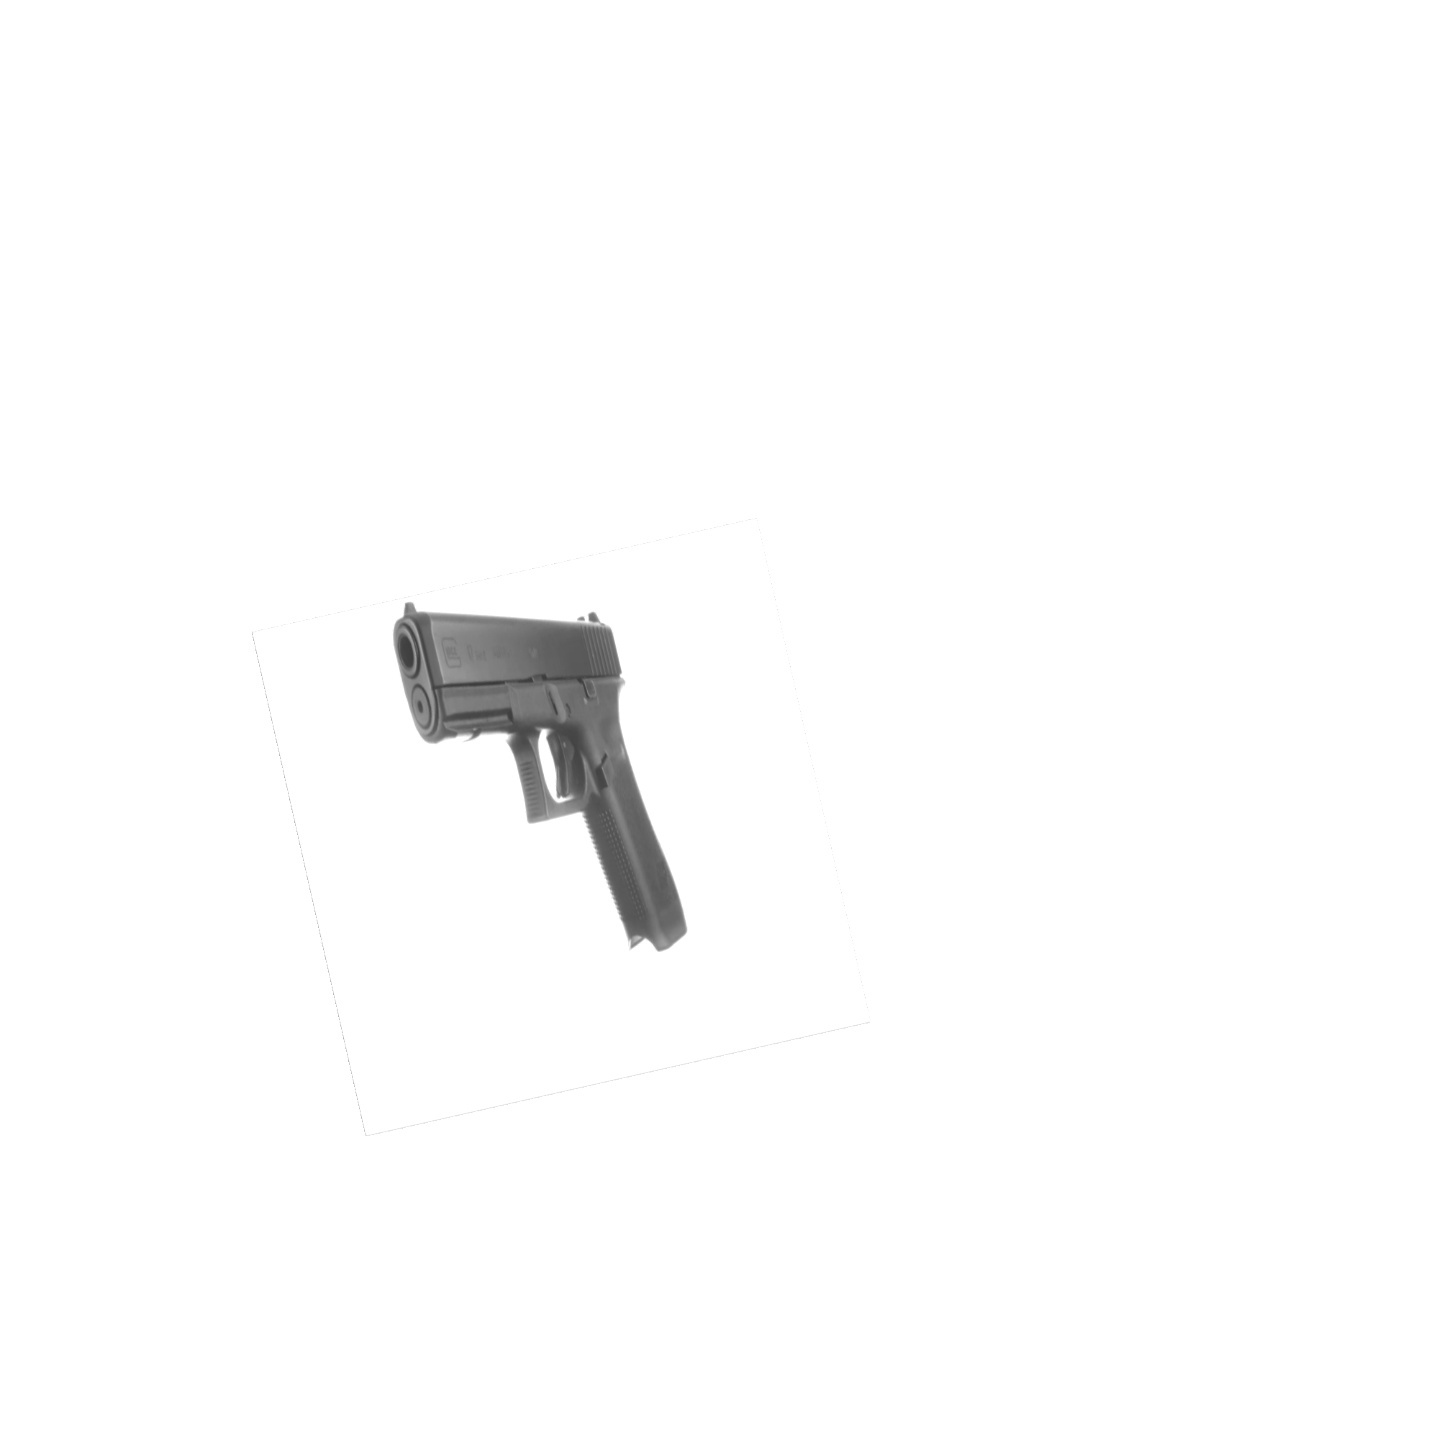gun: (392, 602, 687, 953)
